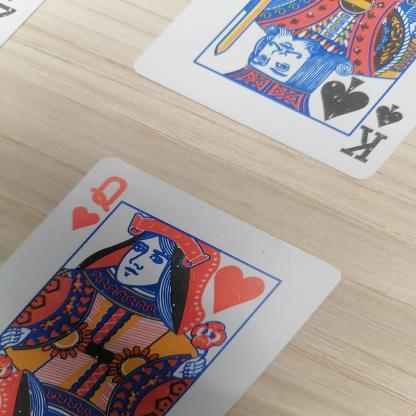KS: (330, 100, 411, 176)
QH: (53, 168, 146, 242)
